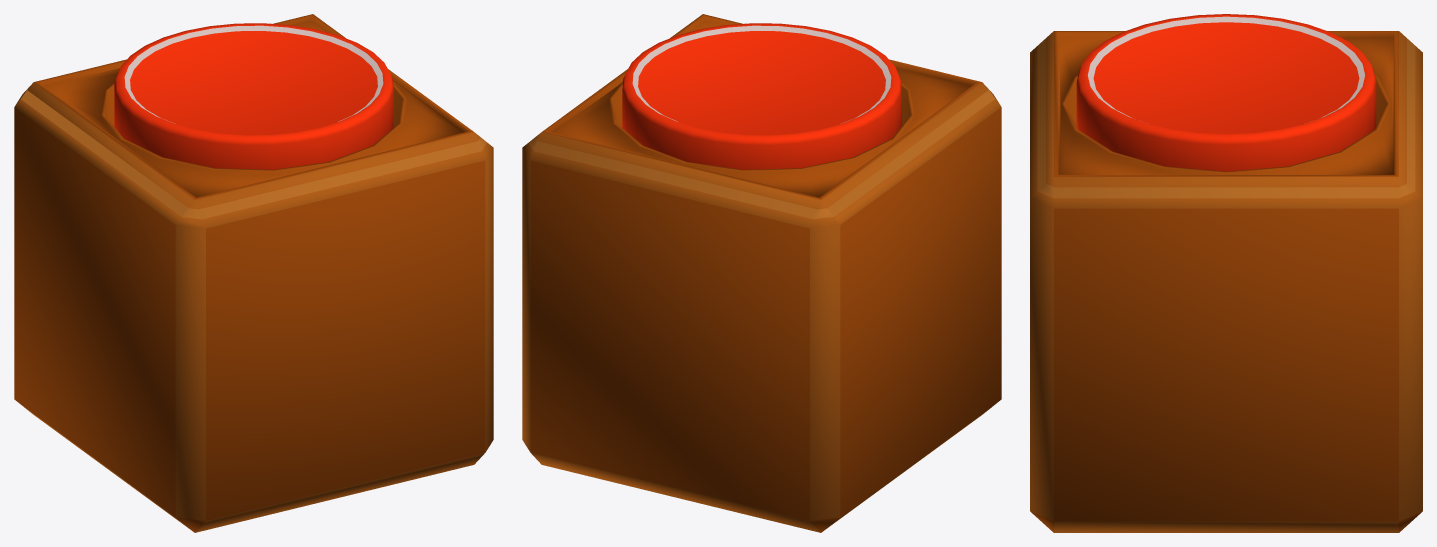
Rendered from button.glb.
3 views of the same model, side by side, from view 1: azimuth 30°, elevation 25°; view 2: azimuth 150°, elevation 25°; view 3: azimuth 270°, elevation 25° (orthographic). The views are drawn at different scales.
Visible parts, largest first — view 1: Box, Button; view 2: Box, Button; view 3: Box, Button.
Boxes of the visible parts, <box> form: Box: <box>14,14,493,532</box>; Button: <box>114,23,393,169</box>; Box: <box>522,14,1001,532</box>; Button: <box>622,23,901,169</box>; Box: <box>1030,31,1422,532</box>; Button: <box>1076,14,1376,171</box>.
Size of the model in its own units: 2 by 2.16 by 2.
Materials: 1 (1 with a texture image).
